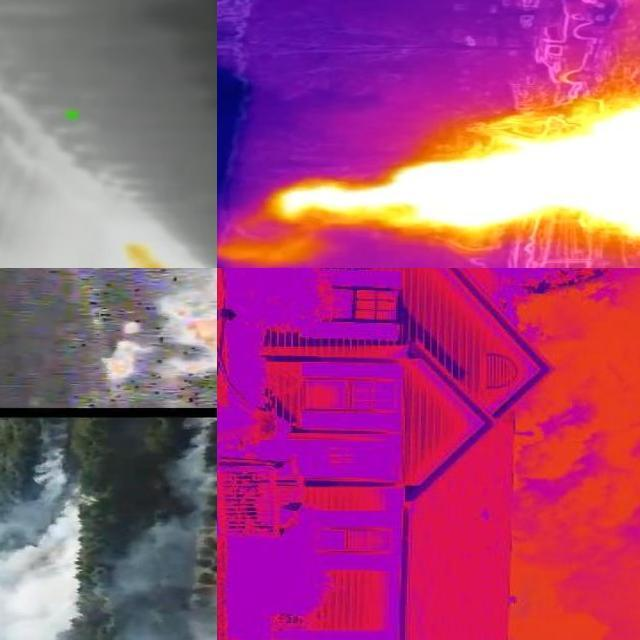fire: (274, 103, 640, 233), (102, 318, 148, 384)
